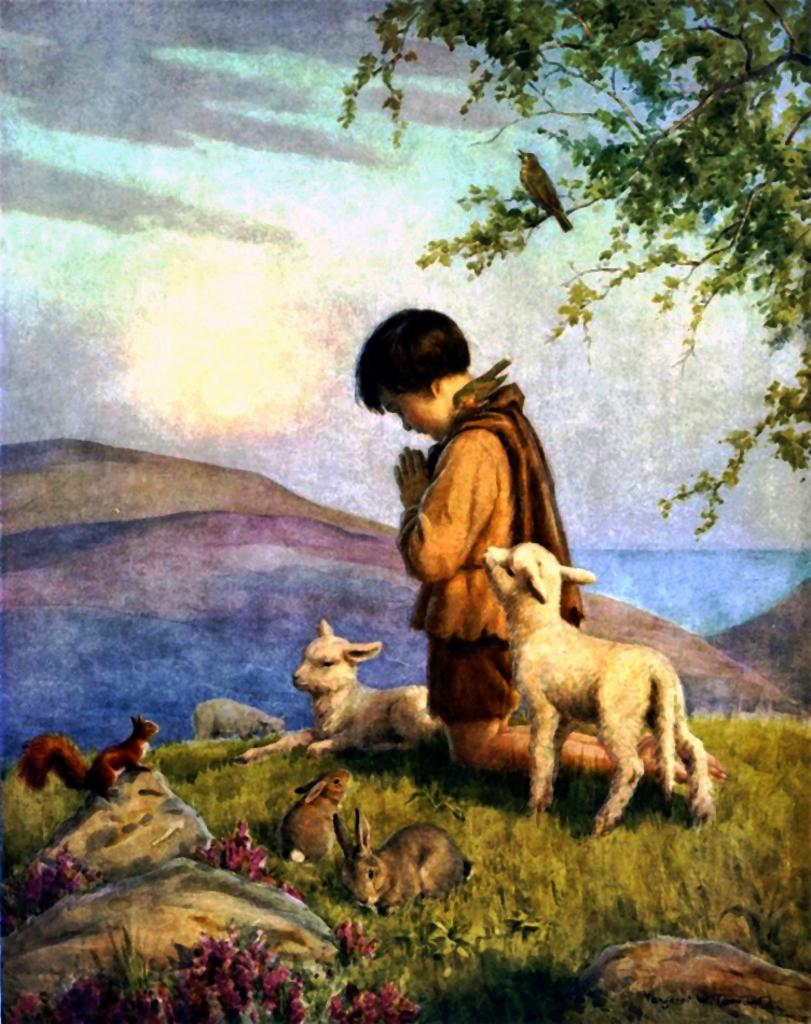Sheep: (478, 542, 714, 838), (239, 622, 447, 756), (194, 702, 282, 745)
